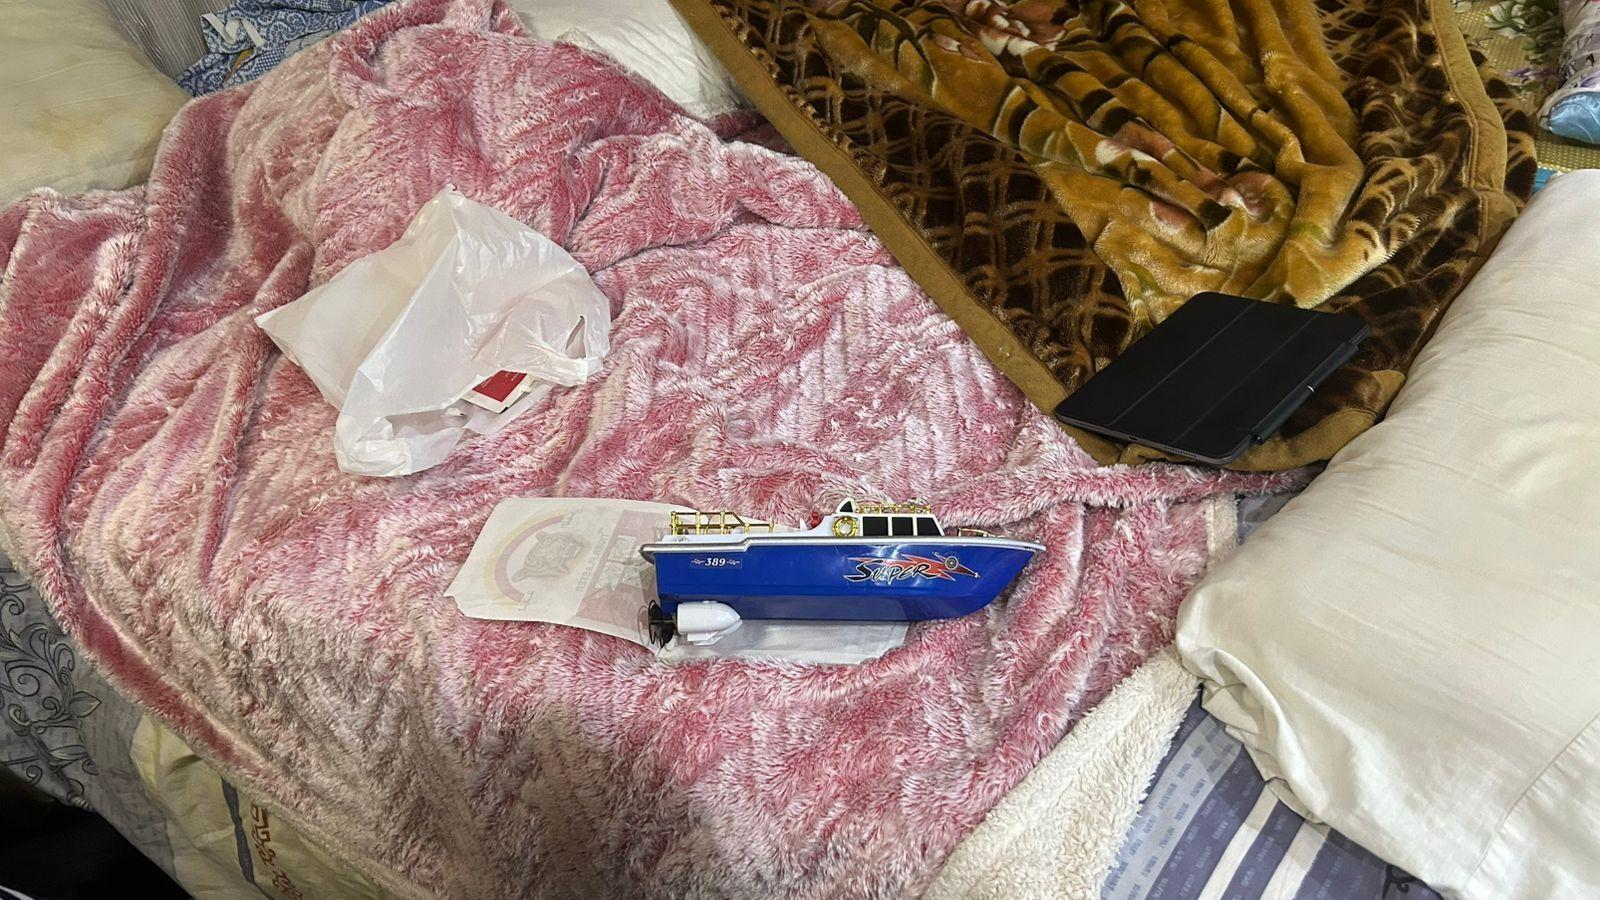Boat: (632, 489, 1057, 670)
